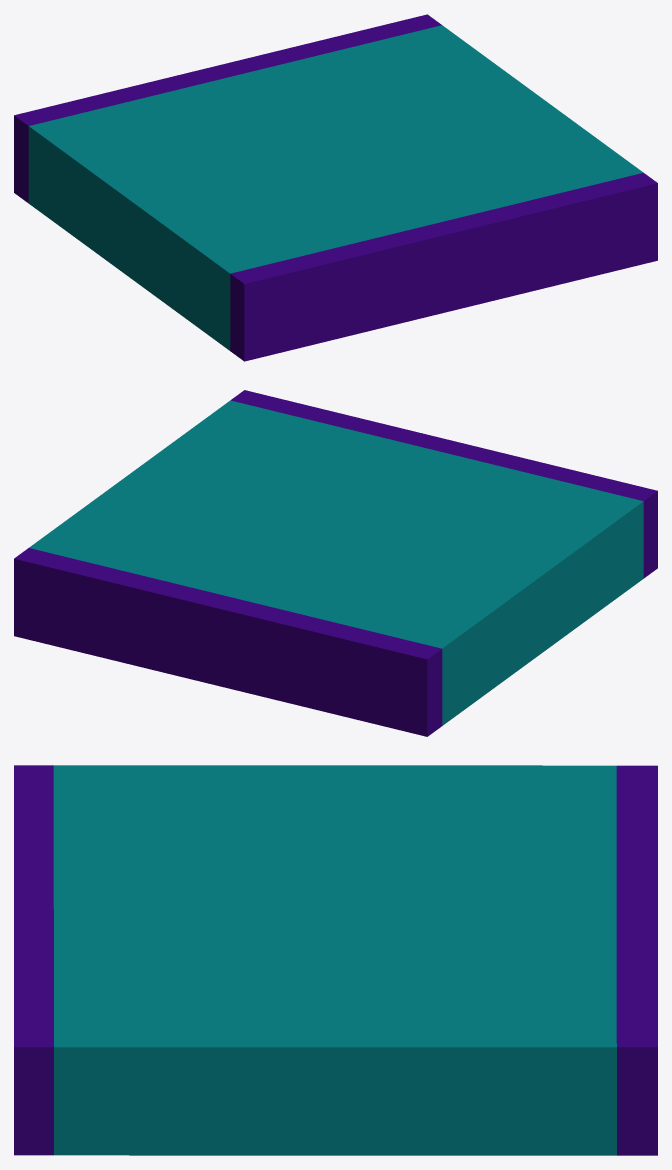
File: plataforma1_id_mesh.fbx
3 renders of one model, top to bottom at view 1: azimuth 30°, elevation 25°; view 2: azimuth 150°, elevation 25°; view 3: azimuth 270°, elevation 25°, orthographic. The views are drawn at different scales.
Parts seen in each view (by area): view 1: plataforma; view 2: plataforma; view 3: plataforma.
Part boxes in pixels (x1,y1,x2,y2): plataforma: (14,14,657,361); plataforma: (14,390,657,736); plataforma: (14,765,657,1155).
Bounding box in the file's own units: 11.99 × 2.15 × 11.58.
